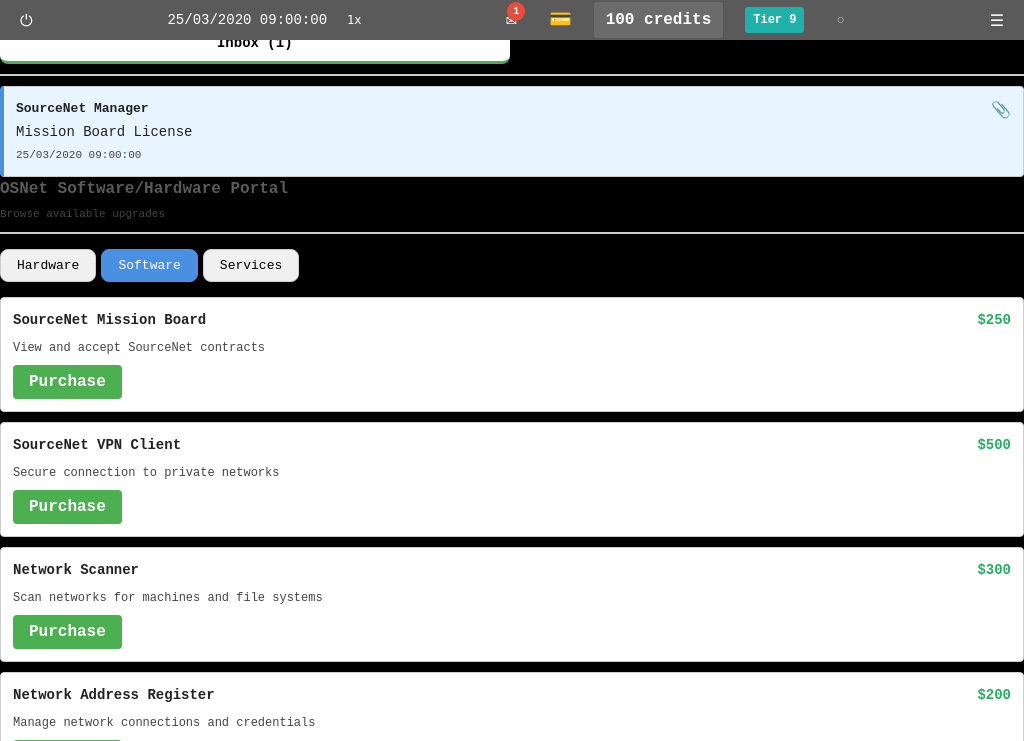
Test: Software License Integration › should complete full license activation and installation flow
Expected: the text titled "Click to open Banking App" reads "100 credits", [594,2,723,38]
// Click the message in mail to open it
Click the text "Mission Board License": (104, 132) [16,124,192,140]
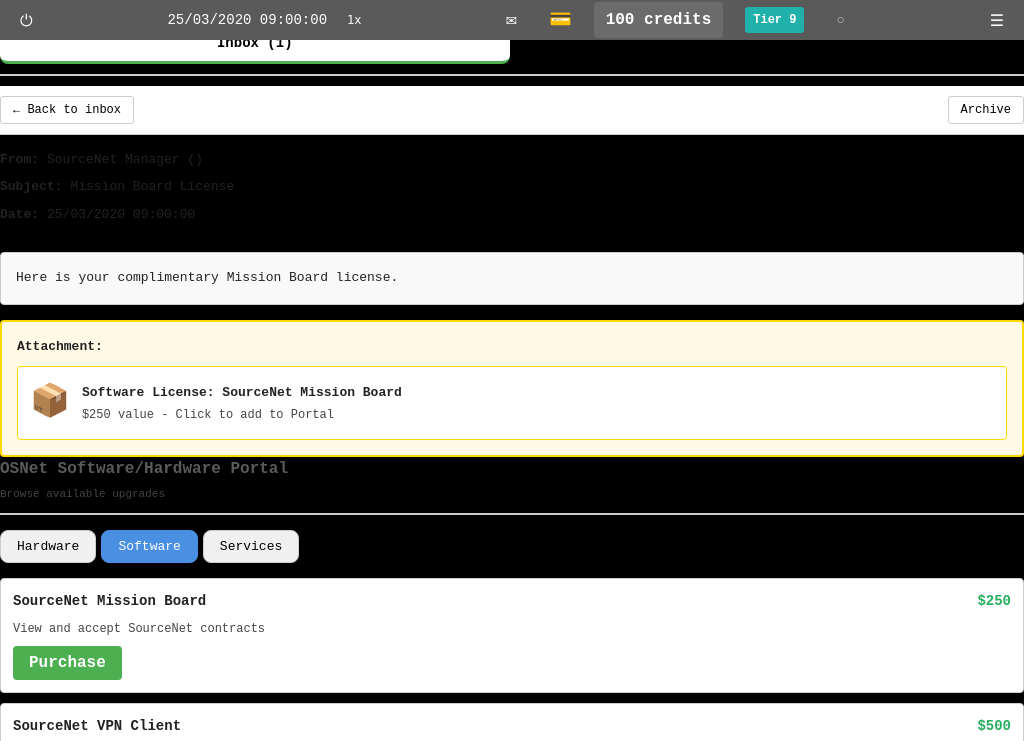
Result: the text "Software License: SourceNet Mission Board" is shown at [82,384,402,400]
Click the text "Software License:": (512, 403) [17,366,1007,440]
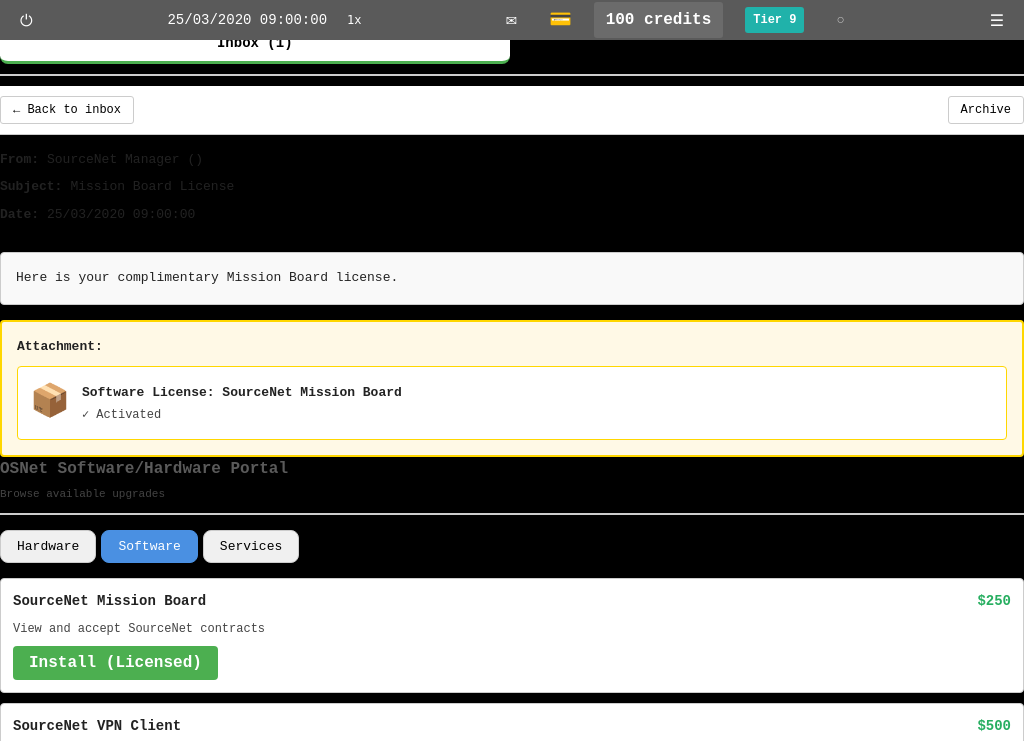
Result: the text "✓ Activated" is shown at [82,408,161,422]
Result: the button "Install (Licensed)" is shown
// Click the Install button (should not deduct credits)
Click the button "Install (Licensed)": (115, 663) [13,646,218,680]
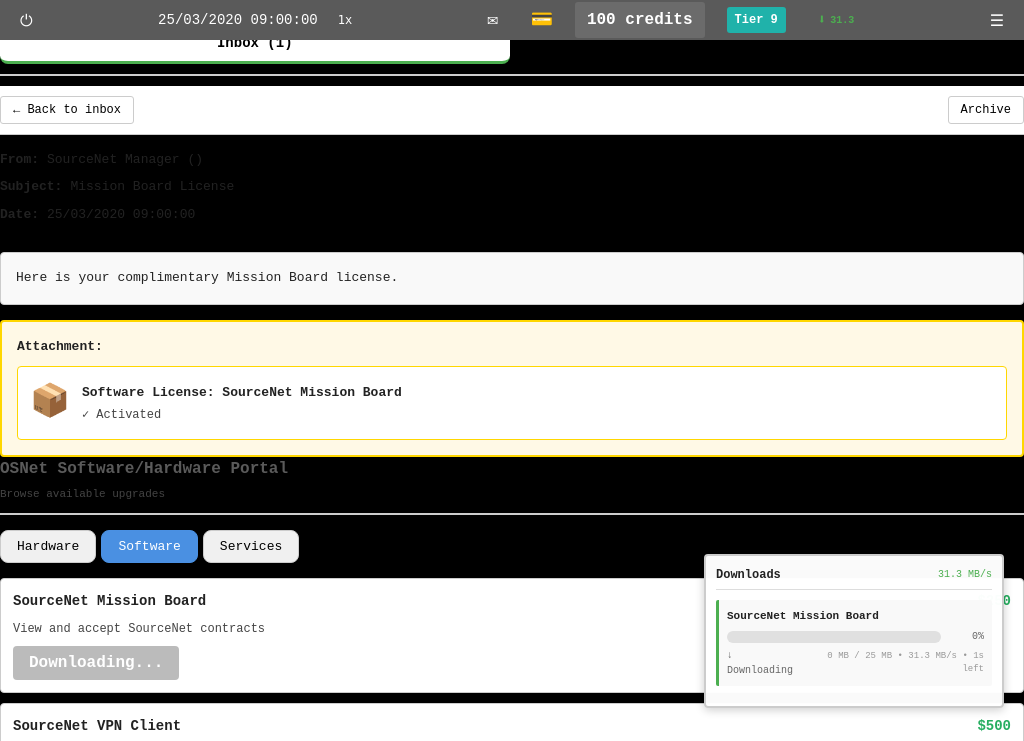
Expected: the text titled "Click to open Banking App" reads "100 credits", [575,2,704,38]
Result: the button "Downloading..." is shown at [13,646,179,680]
